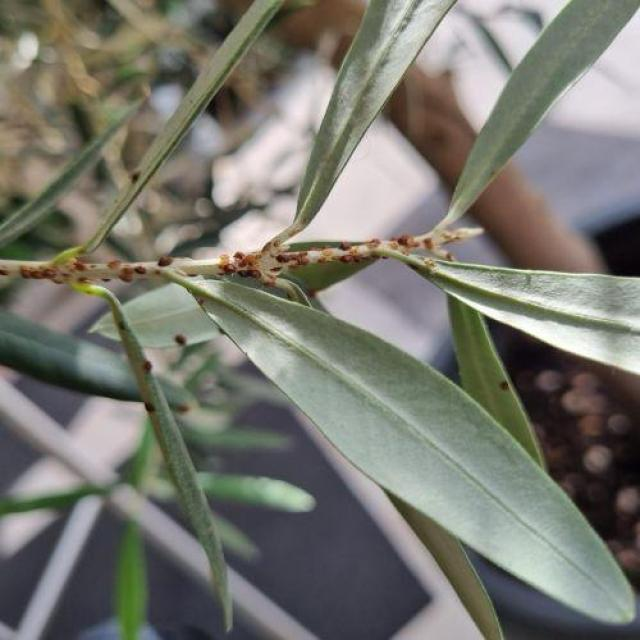BlackScale: (216, 228, 311, 288), (0, 254, 156, 290), (318, 232, 450, 268), (156, 258, 174, 268)
